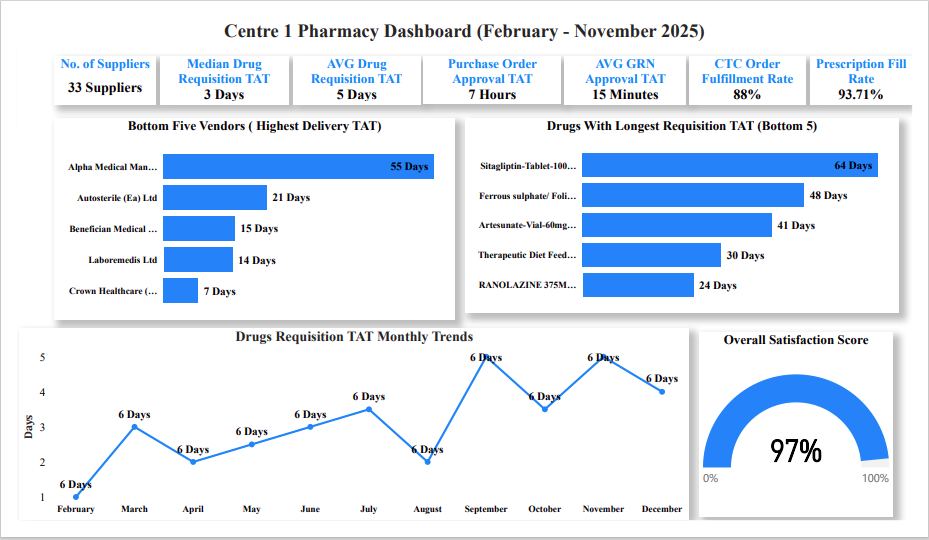

Layout of this report page (visuals, bound fields, positions):
{"tool":"powerbi","page":{"name":"CENTRE 1","canvas":[1280,720],"ordinal":0},"visuals":[{"type":"card","title":"No. of Suppliers","fields":{"Values":["MASTER CTC.No of Suppliers"]},"box":[54.5,55.8,144.9,69.1],"z":0},{"type":"card","title":"Median Drug Requisition TAT","fields":{"Values":["MASTER CTC (2).Median Drug Requisition TAT ctc"]},"box":[204.7,55.8,183.4,69.1],"z":1000},{"type":"card","title":"AVG Drug Requisition TAT","fields":{"Values":["MASTER CTC (2).Drug Requisition TAT CTC"]},"box":[394.8,55.8,182.1,69.1],"z":2000},{"type":"card","title":"Purchase Order Approval TAT ","fields":{"Values":["MASTER CTC (2).Purchase Order  TAT CTC"]},"box":[582.2,55.8,195.4,67.8],"z":3000},{"type":"card","title":"AVG GRN  Approval TAT ","fields":{"Values":["MASTER CTC (2).AVG GRN Approval TAT"]},"box":[782.9,55.8,174.1,69.1],"z":4000},{"type":"card","title":"CTC Order Fulfillment Rate ","fields":{"Values":["Avg(MASTER CTC (2).Order Fill rate )"]},"box":[961,55.8,167.5,69.1],"z":5000},{"type":"textbox","box":[0,0,1280,50.6],"z":6000},{"type":"card","title":"Prescription Fill Rate","fields":{"Values":["SURVEY.sPrescription Fill Rate"]},"box":[1133.8,55.8,146.2,69.1],"z":7000},{"type":"clusteredBarChart","title":"Bottom Five Vendors ( Highest Delivery TAT)","fields":{"Category":["MASTER CTC (2).Vendor Name"],"Y":["Median(MASTER CTC (2).Requisition TAT Days)"]},"box":[54.5,144.9,571.5,288.4],"z":8000},{"type":"lineChart","title":"Drugs Requisition TAT  Monthly Trends ","fields":{"Category":["MASTER CTC (2).GRN Approved Date.Variation.Date Hierarchy.Month"],"Y":["Median(MASTER CTC (2).Requisition TAT Days)"]},"box":[4.3,445.8,956.5,274.5],"z":9000},{"type":"clusteredBarChart","title":" Drugs With Longest Requisition TAT (Bottom 5)","fields":{"Category":["MASTER CTC (2).Item Name"],"Y":["Median(MASTER CTC (2).Requisition TAT Days)"]},"box":[640.7,144.9,620.7,277.8],"z":10000},{"type":"gauge","title":"Overall Satisfaction Score","fields":{"Y":["SURVEY.Average overall satisfaction"]},"box":[975.7,451.1,276.6,263.9],"z":11000}]}

Visuals, with their boxes on the page's 1280x720 design canvas (x1, y1, x2, y2). These are canvas units, not pixel positions in the 929x540 screenshot, which may show the page scaled, cropped or inside an application window:
"No. of Suppliers" card: <bbox>54, 56, 199, 125</bbox>
"Median Drug Requisition TAT" card: <bbox>205, 56, 388, 125</bbox>
"AVG Drug Requisition TAT" card: <bbox>395, 56, 577, 125</bbox>
"Purchase Order Approval TAT " card: <bbox>582, 56, 778, 124</bbox>
"AVG GRN  Approval TAT " card: <bbox>783, 56, 957, 125</bbox>
"CTC Order Fulfillment Rate " card: <bbox>961, 56, 1128, 125</bbox>
textbox: <bbox>0, 0, 1280, 51</bbox>
"Prescription Fill Rate" card: <bbox>1134, 56, 1280, 125</bbox>
"Bottom Five Vendors ( Highest Delivery TAT)" clusteredBarChart: <bbox>54, 145, 626, 433</bbox>
"Drugs Requisition TAT  Monthly Trends " lineChart: <bbox>4, 446, 961, 720</bbox>
" Drugs With Longest Requisition TAT (Bottom 5)" clusteredBarChart: <bbox>641, 145, 1261, 423</bbox>
"Overall Satisfaction Score" gauge: <bbox>976, 451, 1252, 715</bbox>
